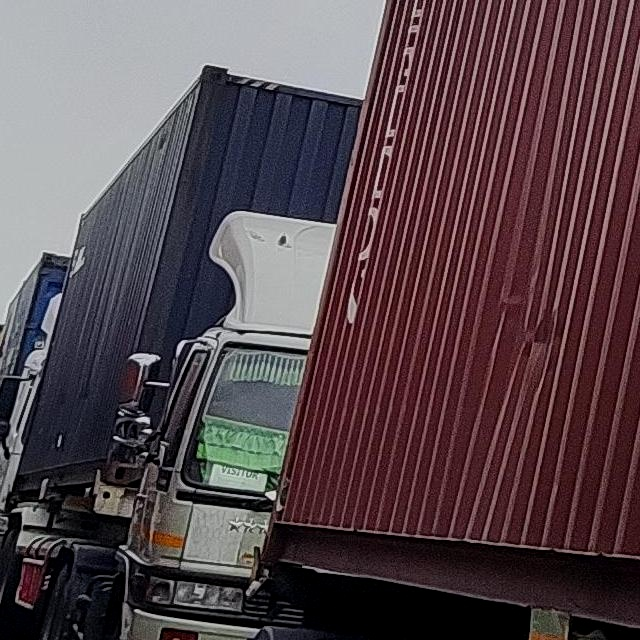Dent: (460, 225, 584, 417)
